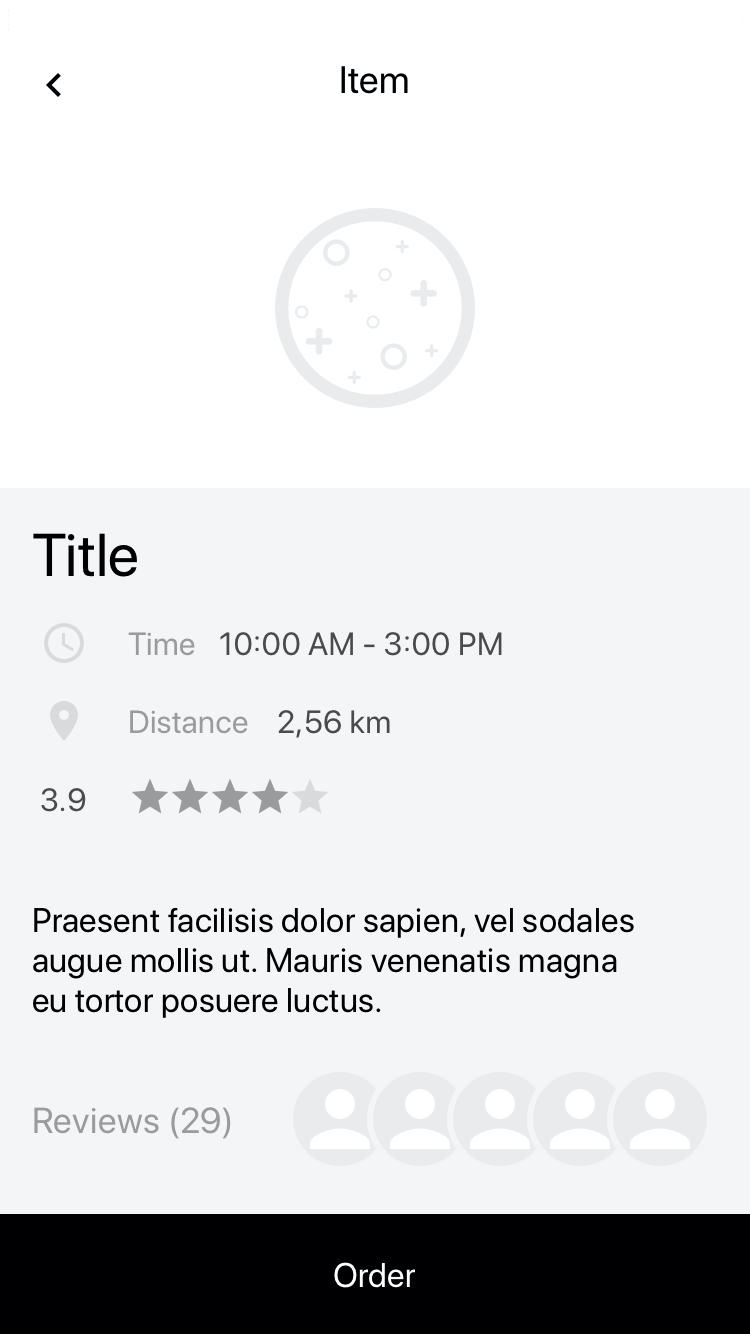Icon: (616, 1072, 707, 1166), (294, 1071, 377, 1168), (533, 1072, 616, 1167), (451, 1071, 534, 1165), (132, 779, 330, 816), (376, 1071, 451, 1165), (45, 623, 87, 665), (50, 701, 80, 742), (47, 73, 65, 98)
Image: (275, 208, 476, 408)
Text: (33, 908, 634, 1020), (220, 631, 503, 657), (34, 1105, 231, 1140), (33, 532, 139, 578), (278, 709, 391, 739), (130, 710, 250, 734), (341, 66, 410, 95), (129, 631, 196, 656), (41, 788, 86, 816)
TextButton: (1, 1213, 750, 1334)
